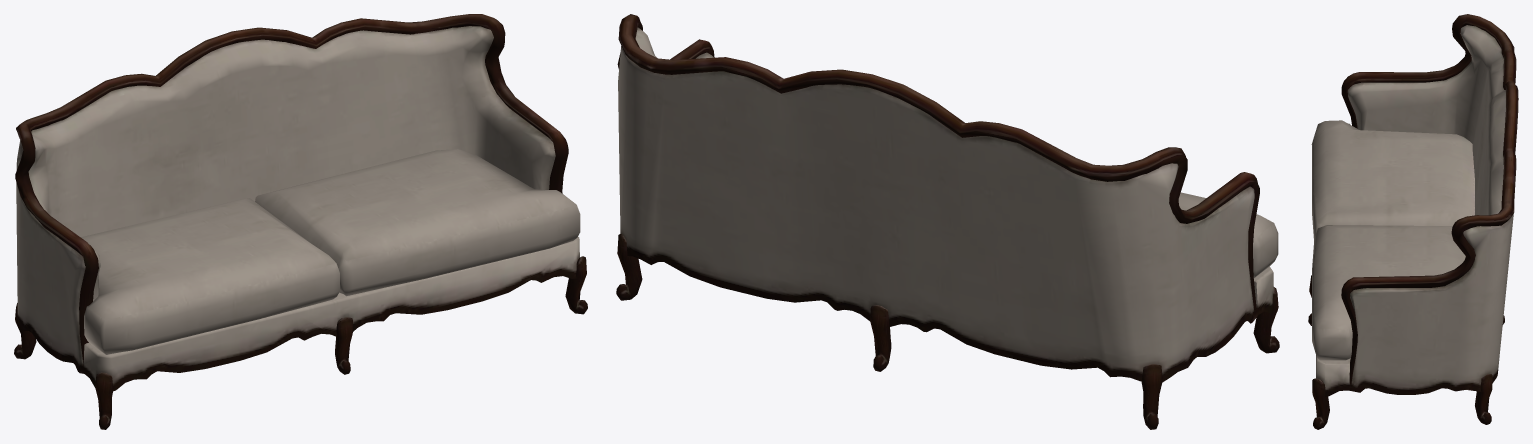
Rendered from Sofa_01.glb.
The picture shows the model from 3 angles, left to right: view 1: azimuth 30°, elevation 25°; view 2: azimuth 150°, elevation 25°; view 3: azimuth 270°, elevation 25°; orthographic projection. The views are drawn at different scales.
Parts seen in each view (by area): view 1: Sofa_01; view 2: Sofa_01; view 3: Sofa_01.
Part boxes in pixels (<box>): Sofa_01: <box>14,14,587,429</box>; Sofa_01: <box>616,14,1279,429</box>; Sofa_01: <box>1308,14,1518,429</box>.
Bounding box in the file's own units: 1.57 × 0.7954 × 0.658.
Materials: 1 (1 with a texture image).
